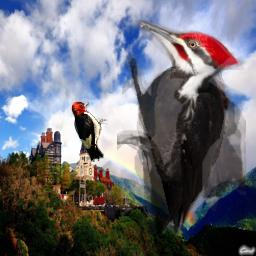Woodpecker: (117, 20, 246, 234), (71, 101, 108, 163)
